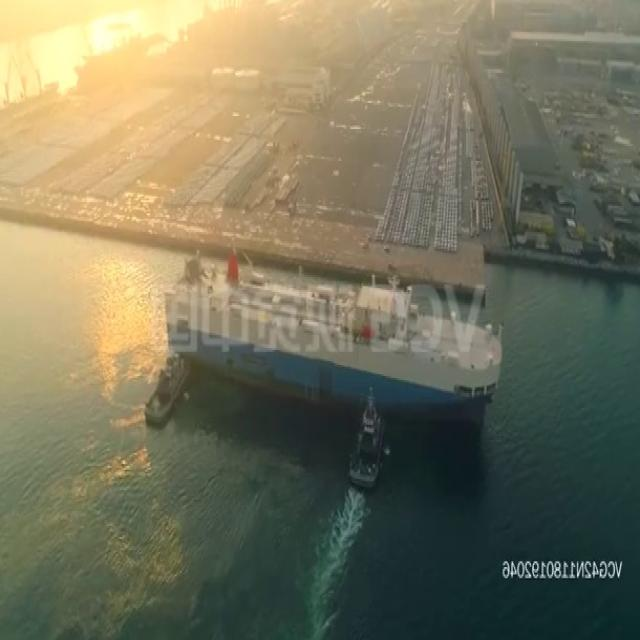cargoship: (167, 260, 512, 416)
houseboat: (145, 351, 191, 424), (349, 397, 384, 488)
